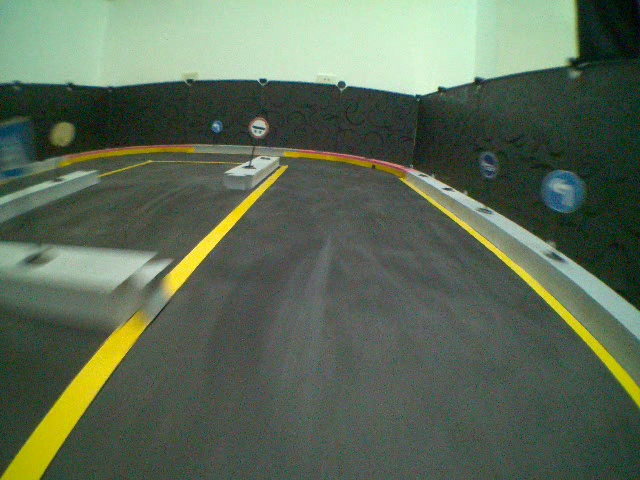Check: (247, 116, 270, 138)
horn: (477, 150, 500, 178)
turn: (540, 168, 588, 214), (208, 119, 224, 135)
